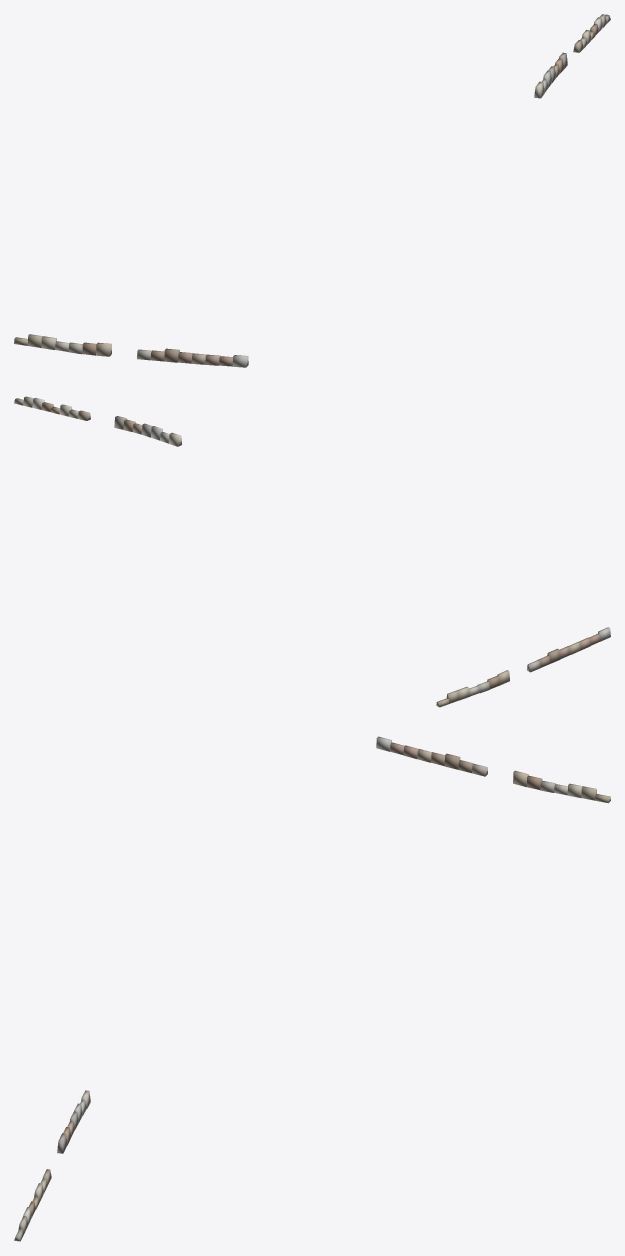
Rendered from farm_6_9_collision.glb.
3 renders of one model, top to bottom at view 1: azimuth 90°, elevation 25°; view 2: azimuth 150°, elevation 25°; view 3: azimuth 270°, elevation 25°, orthographic. The views are drawn at different scales.
Parts seen in each view (by area): view 1: geometry_0; view 2: geometry_0; view 3: geometry_0.
Part boxes in pixels (x1,y1,x2,y2): geometry_0: (14,14,610,367); geometry_0: (14,396,610,707); geometry_0: (14,736,610,1241).
Bounding box in the file's own units: 103 × 9.47 × 61.55.
